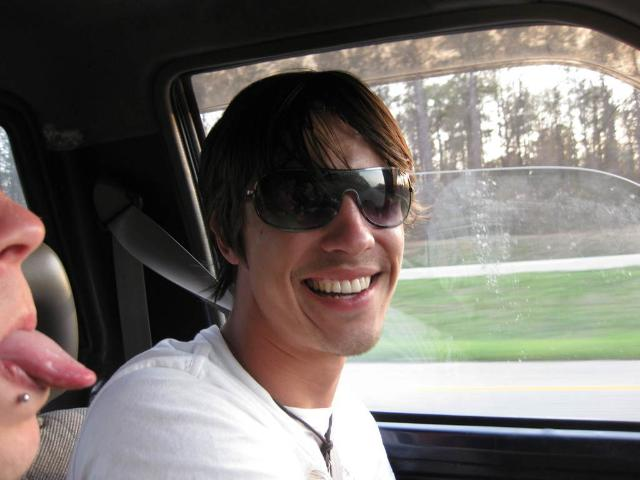Seatbelt: (107, 206, 236, 310)
